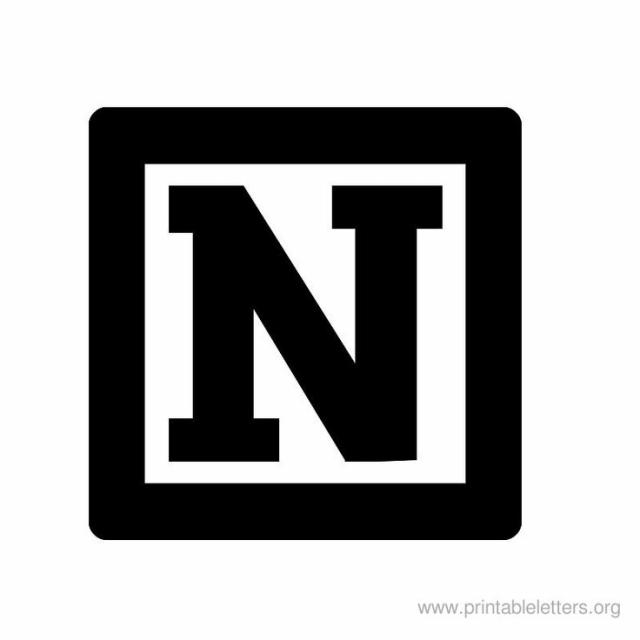N: (160, 174, 450, 473)
